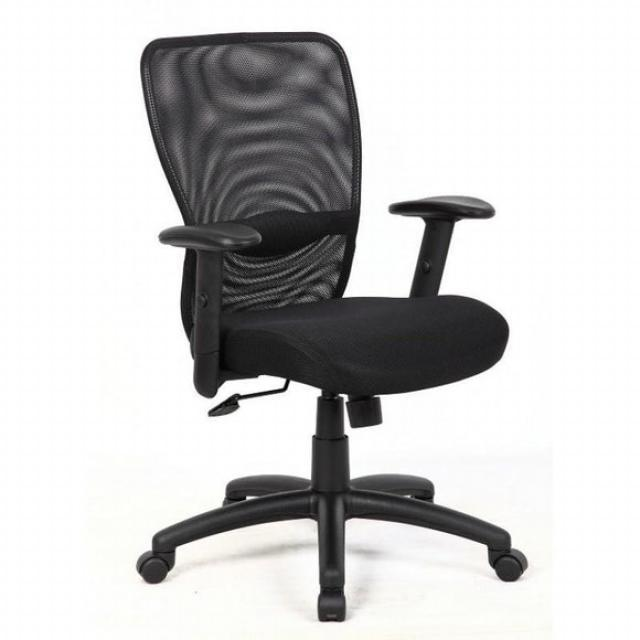chair: (117, 21, 552, 631)
